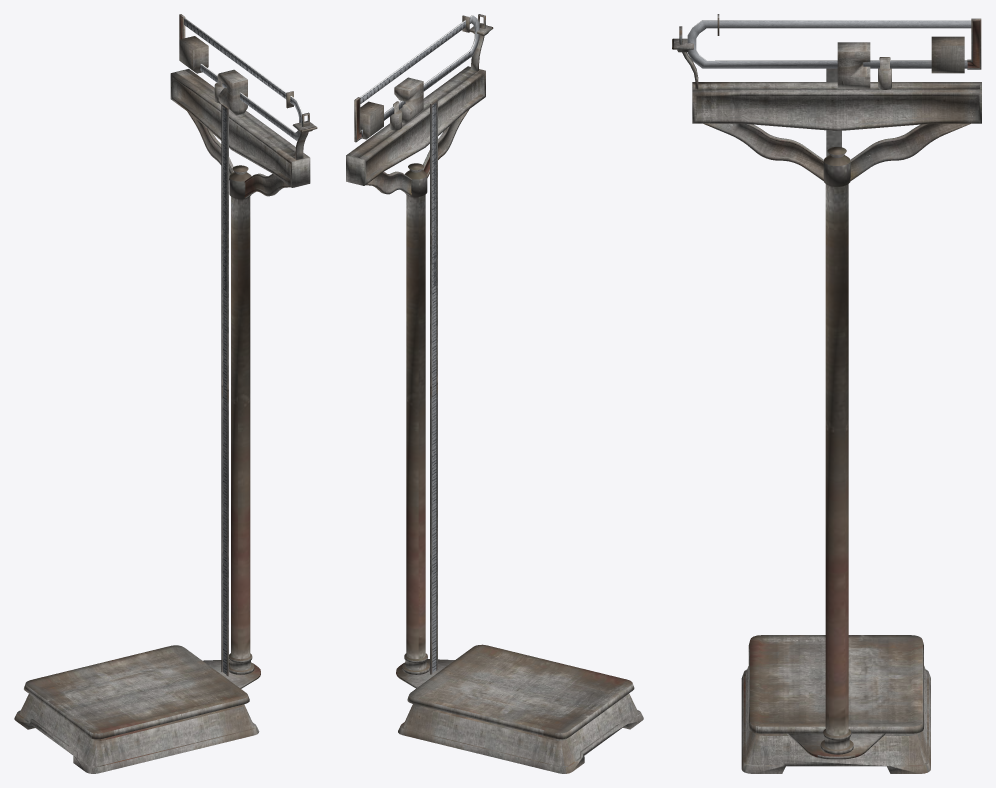
The model's file is manual-adult-scale.glb.
The picture shows the model from 3 angles, left to right: view 1: azimuth 30°, elevation 25°; view 2: azimuth 150°, elevation 25°; view 3: azimuth 270°, elevation 25°; orthographic projection. The views are drawn at different scales.
Parts seen in each view (by area): view 1: Medical Scale; view 2: Medical Scale; view 3: Medical Scale.
Boxes of the visible parts, bbox=[...] form: Medical Scale: bbox=[14, 14, 317, 773]; Medical Scale: bbox=[346, 14, 643, 773]; Medical Scale: bbox=[672, 14, 981, 773].
Size of the model in its own units: 0.5325 by 1.59 by 0.5824.
2 materials, 2 textured.
